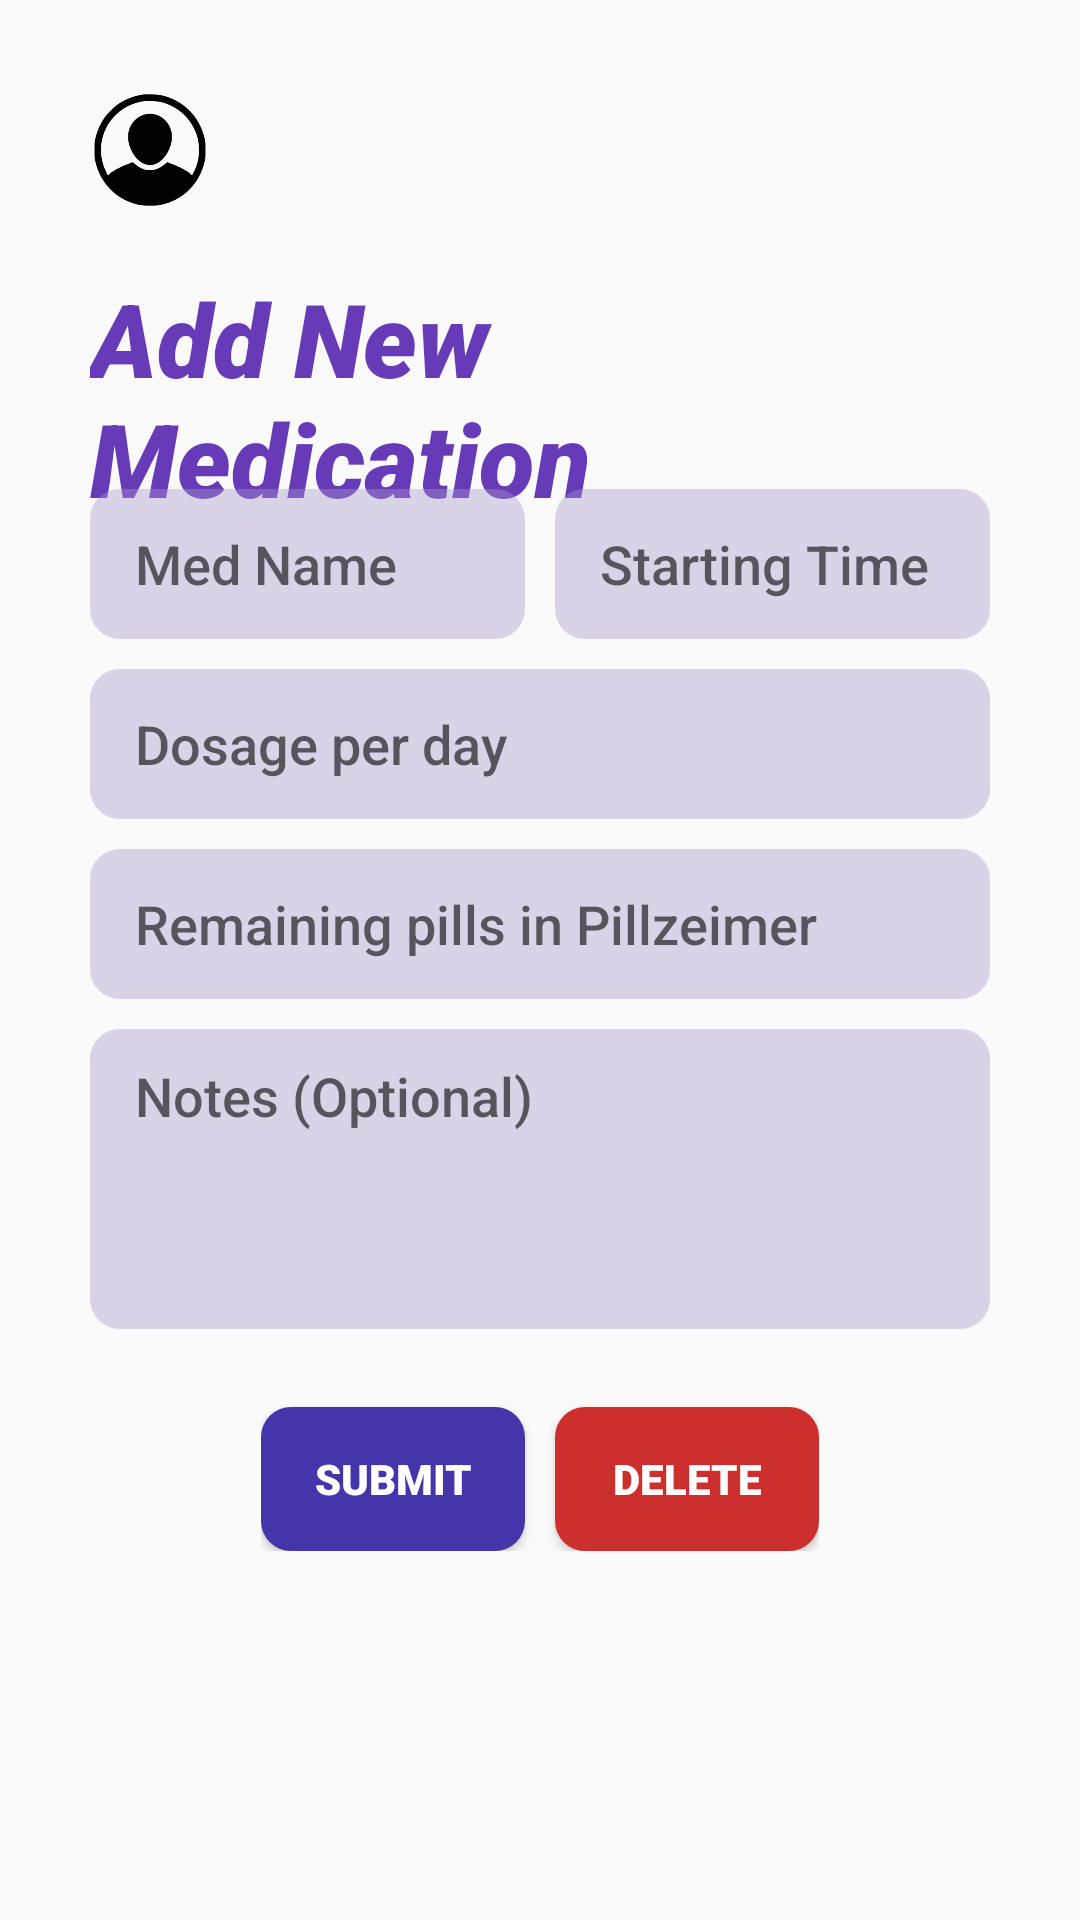

Icon click points for this 1080*1920 phone screenshot, format (x,y):
profpic: (150,150)
